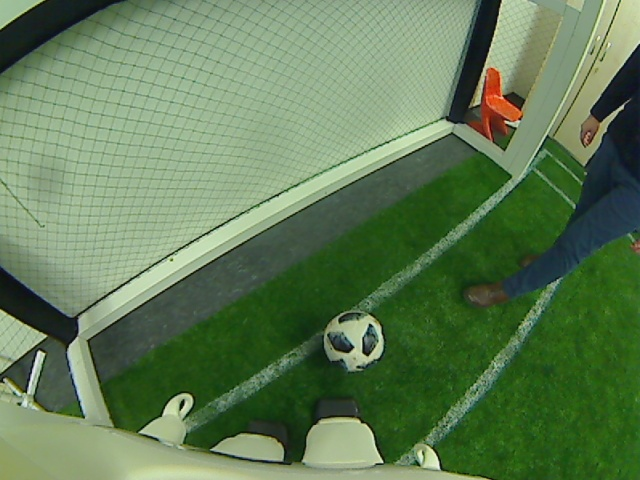ball: (323, 309, 385, 374)
